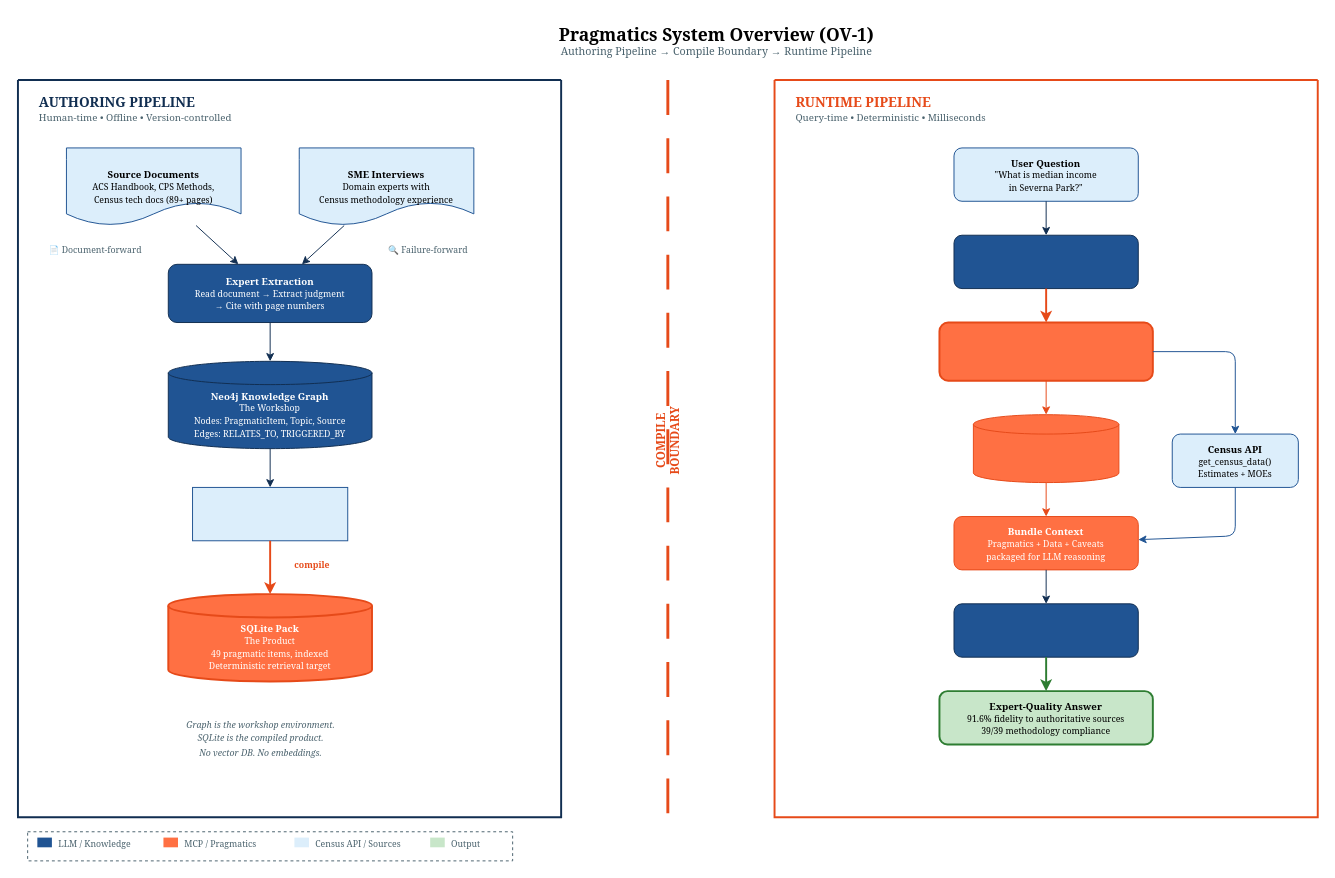
This 1335x878 diagram has some shape labels left out. Here are the shapes that lost their labels. From the top down, the box of each, then its label:
(953, 234, 1138, 289): Caller LLM Picks topics: small_area, geography, margin_of_error
(938, 321, 1153, 381): Pragmatics MCP Server get_methodology_guidance() SQL: WHERE trigger IN (...)
(972, 414, 1119, 483): SQLite Tag match + thread traversal Depth ≤ 2, deterministic
(192, 486, 348, 541): Staging JSON Version-controlled export Git-trackable, diffable
(953, 603, 1138, 657): LLM Reasons With expert context in window Applies caveats, warns on fitness
